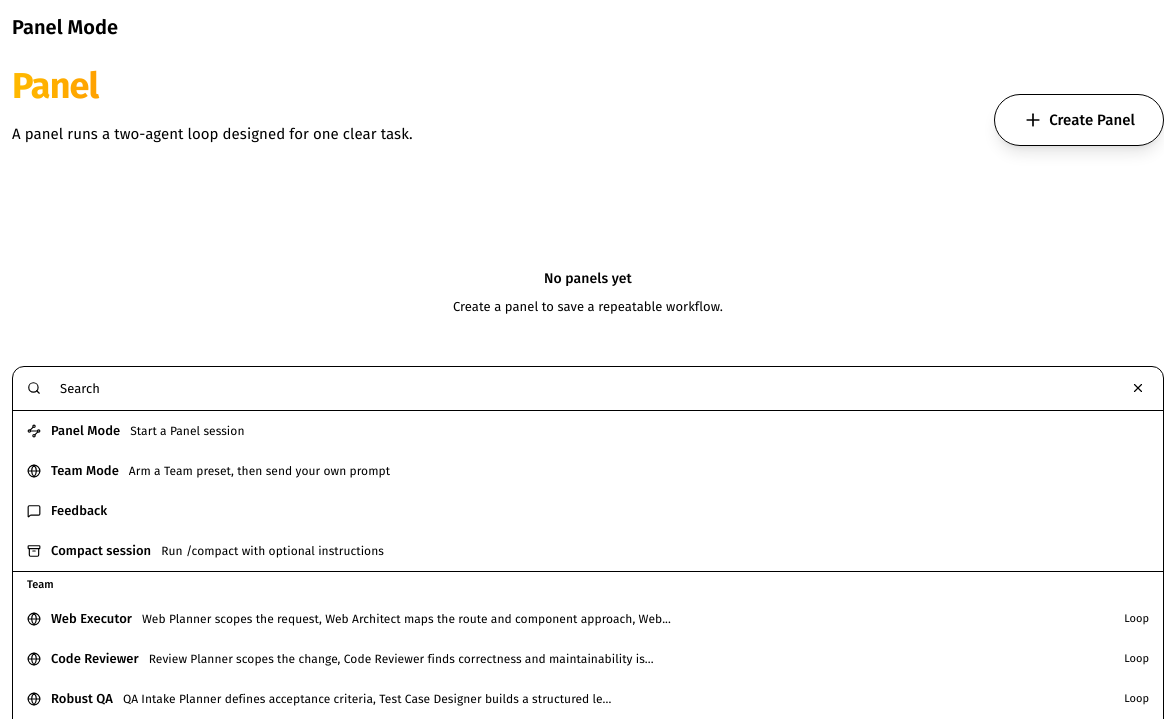
Test: WaggleSection › shares the Waggle preset query cache with the command palette
Type "review" into the field with placeholder "Search" at x=584, y=388, box [49,372,1119,404]
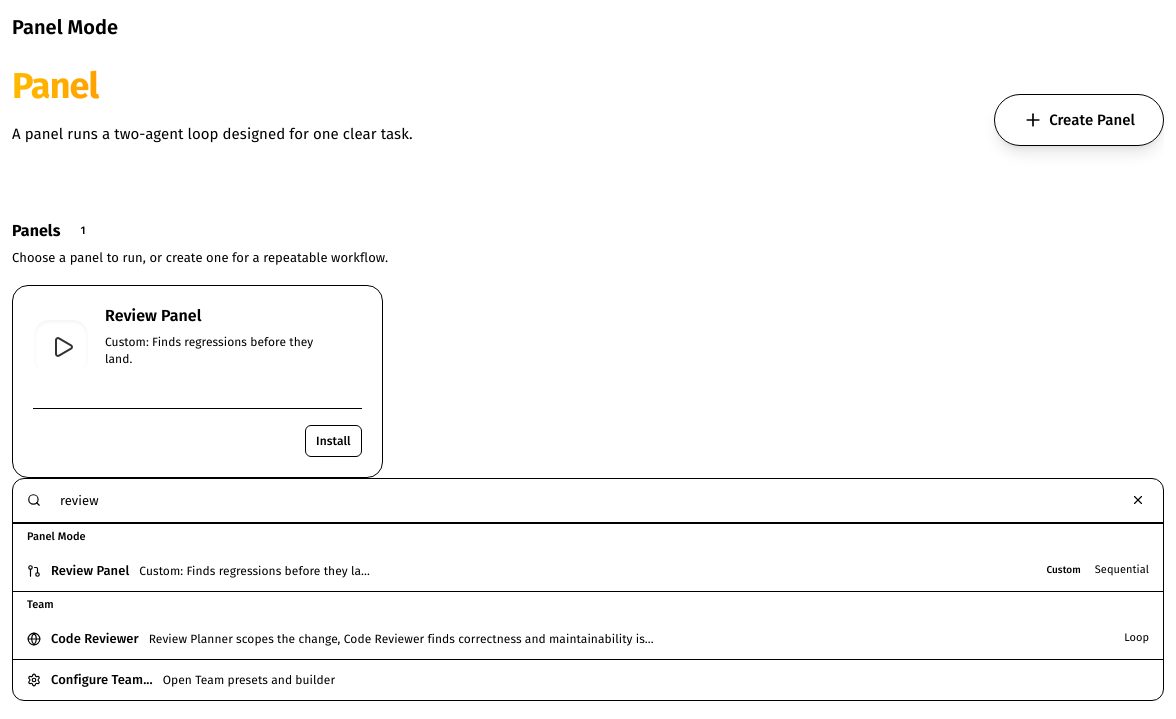
Expected: the button "Review Panel" is shown, [13,550,1163,590]
